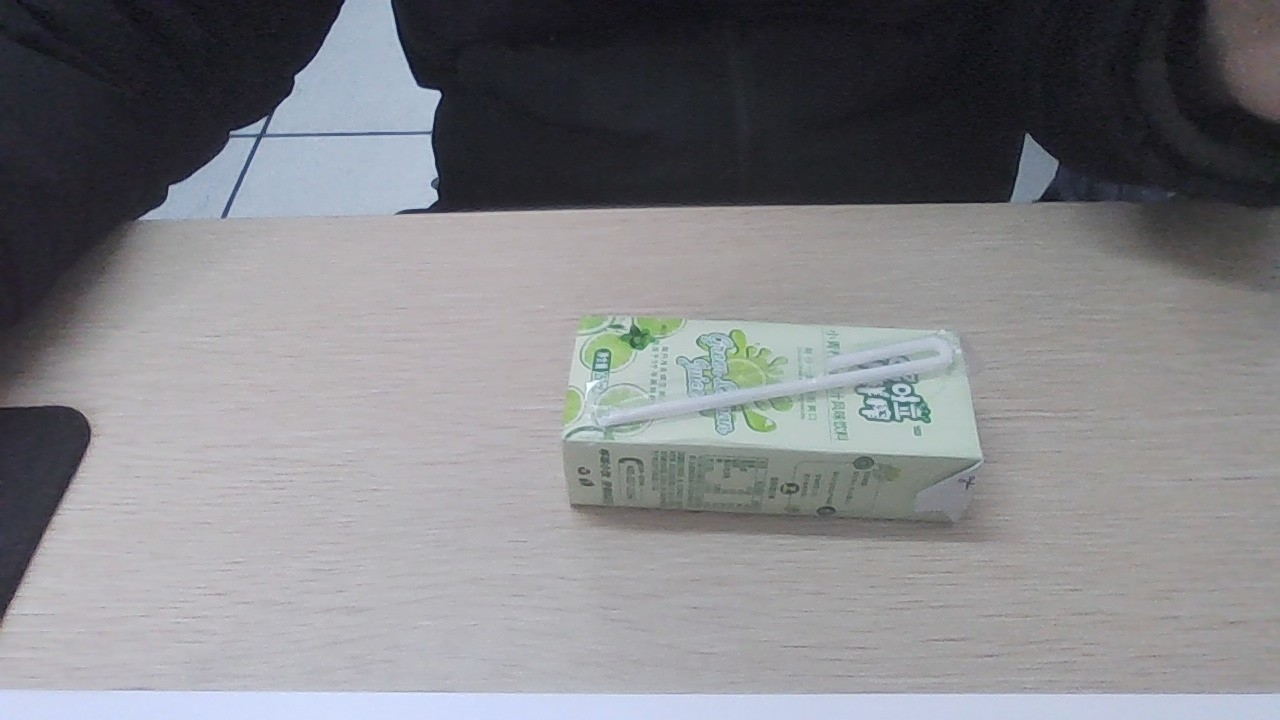CY-drink: (557, 313, 980, 528)
